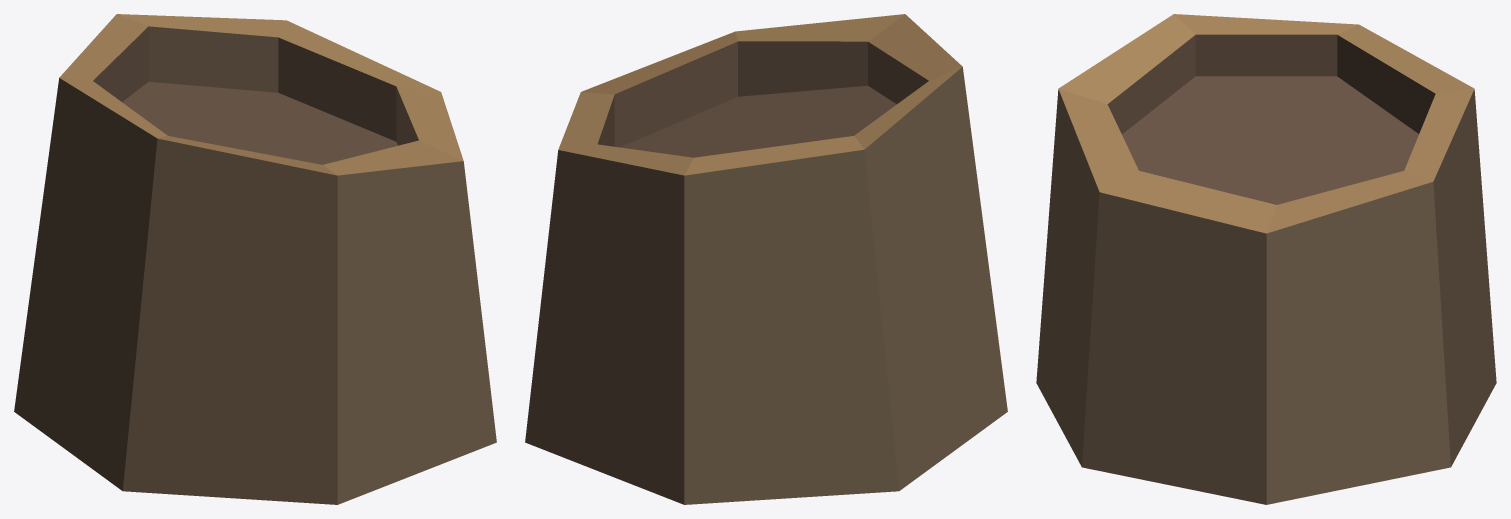
Rendered from otherStump.fbx.
The picture shows the model from 3 angles, left to right: view 1: azimuth 30°, elevation 25°; view 2: azimuth 150°, elevation 25°; view 3: azimuth 270°, elevation 25°; orthographic projection. The views are drawn at different scales.
Parts seen in each view (by area): view 1: otherStump; view 2: otherStump; view 3: otherStump.
Boxes of the visible parts, left/top/right/bottom form: otherStump: left=14, top=14, right=496, bottom=504; otherStump: left=525, top=14, right=1007, bottom=504; otherStump: left=1036, top=14, right=1496, bottom=504.
Bounding box in the file's own units: 41.82 × 32.88 × 42.9.
